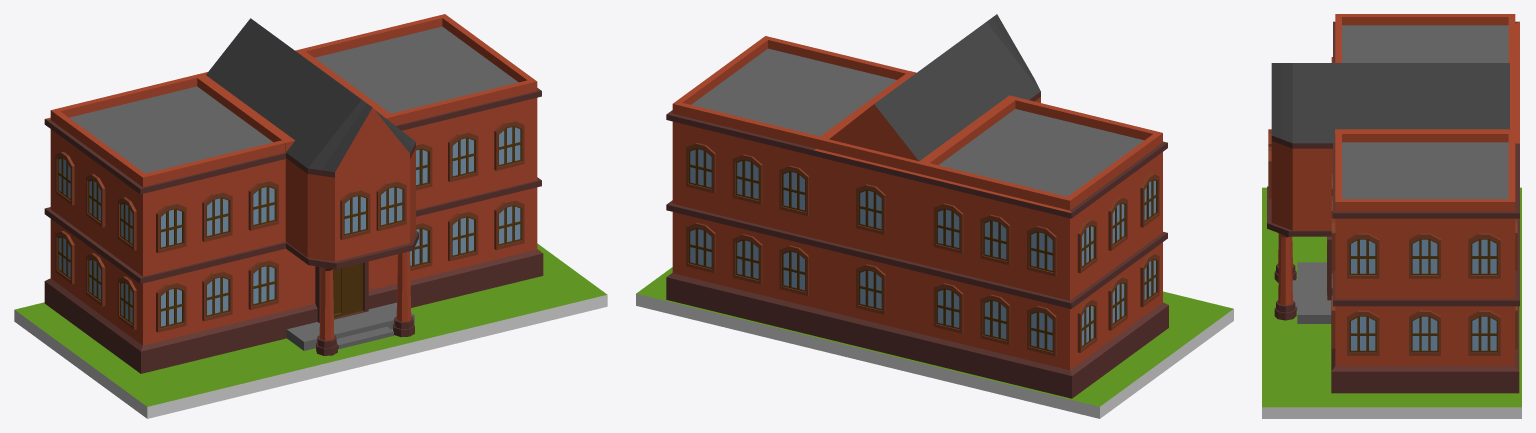
File: School.gltf
3 views of the same model, side by side, from view 1: azimuth 30°, elevation 25°; view 2: azimuth 150°, elevation 25°; view 3: azimuth 270°, elevation 25° (orthographic). The views are drawn at different scales.
Parts seen in each view (by area): view 1: SCHOOL, Baza 1x1.005, prozorI.001, Cylinder.005, VRATA; view 2: SCHOOL, prozorI.001, Baza 1x1.005; view 3: SCHOOL, Baza 1x1.005, prozorI.001, Cylinder.005, VRATA.
Part boxes in pixels (x1=…): SCHOOL: x1=44, y1=14, x2=543, y2=373; Baza 1x1.005: x1=14, y1=243, x2=607, y2=418; prozorI.001: x1=55, y1=120, x2=524, y2=332; Cylinder.005: x1=316, y1=251, x2=414, y2=355; VRATA: x1=315, y1=261, x2=368, y2=323; SCHOOL: x1=666, y1=14, x2=1168, y2=398; prozorI.001: x1=686, y1=143, x2=1159, y2=356; Baza 1x1.005: x1=636, y1=267, x2=1233, y2=418; SCHOOL: x1=1267, y1=14, x2=1519, y2=393; Baza 1x1.005: x1=1262, y1=187, x2=1521, y2=418; prozorI.001: x1=1268, y1=57, x2=1517, y2=355; Cylinder.005: x1=1274, y1=233, x2=1296, y2=320; VRATA: x1=1327, y1=236, x2=1331, y2=300.
Bounding box in the file's own units: 4 × 2.09 × 2.
